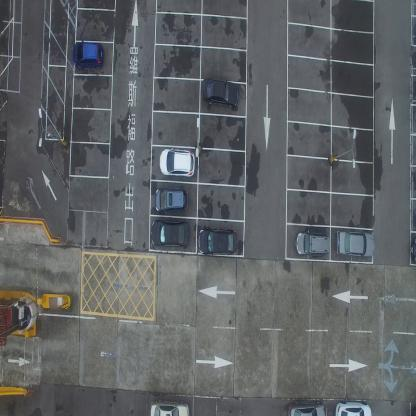car: (201, 77, 238, 110), (198, 226, 237, 257), (150, 218, 190, 248), (335, 228, 375, 257), (159, 146, 195, 178), (72, 38, 104, 70), (154, 186, 189, 215), (295, 230, 330, 258), (150, 398, 190, 416), (288, 400, 326, 416), (335, 400, 372, 415)
